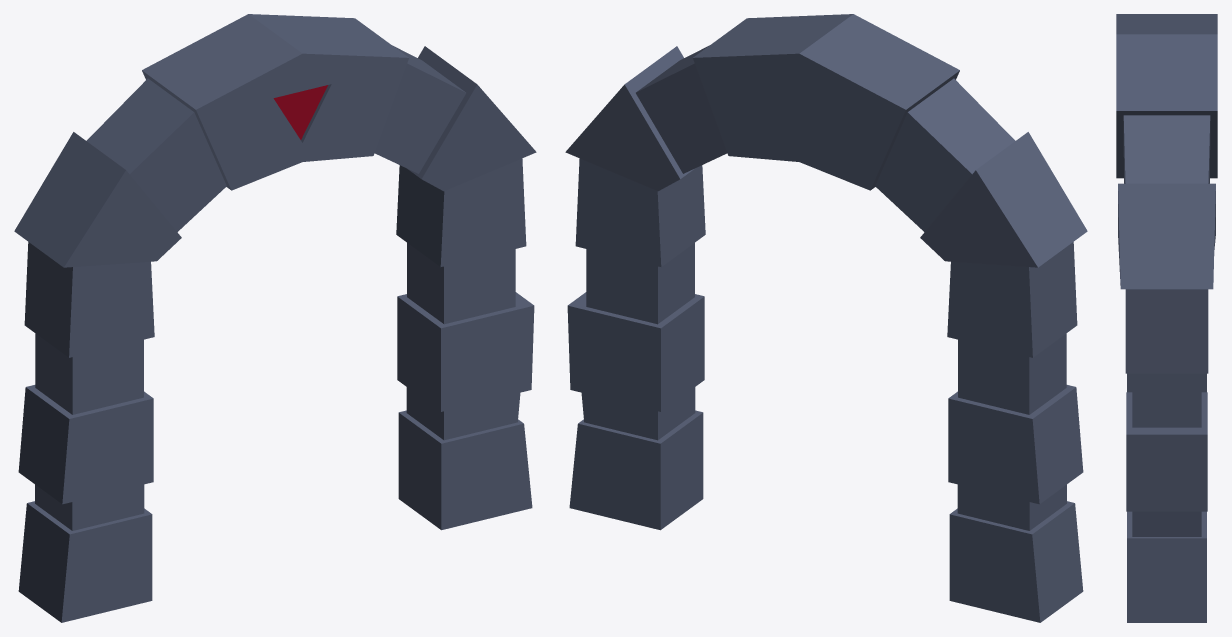
Rendered from muro sin puerta.fbx.
3 renders of one model, left to right at view 1: azimuth 30°, elevation 25°; view 2: azimuth 150°, elevation 25°; view 3: azimuth 270°, elevation 25°, orthographic. The views are drawn at different scales.
Visible parts, largest first — view 1: door arc.038; view 2: door arc.038; view 3: door arc.038.
Boxes of the visible parts, <box> form: door arc.038: <box>14,14,536,622</box>; door arc.038: <box>565,14,1087,622</box>; door arc.038: <box>1116,14,1217,622</box>.
Bounding box in the file's own units: 369 × 384 × 73.09.
